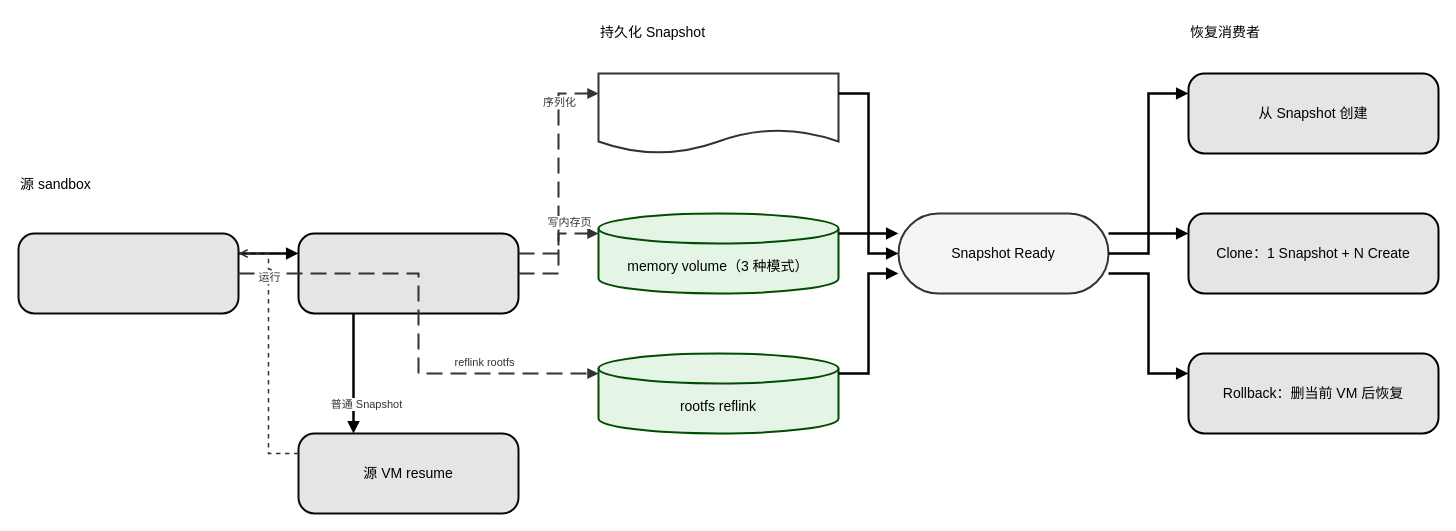
The diagram is 1456 pixels wide and 531 high, and some of its shapes have lost their labels. Each missing label, with the box of its shape:
config.json + state.json: (597, 72, 839, 154)
暂停 vCPU / devices: (297, 232, 519, 314)
源 VM：RAM + writable rootfs: (17, 232, 239, 314)
